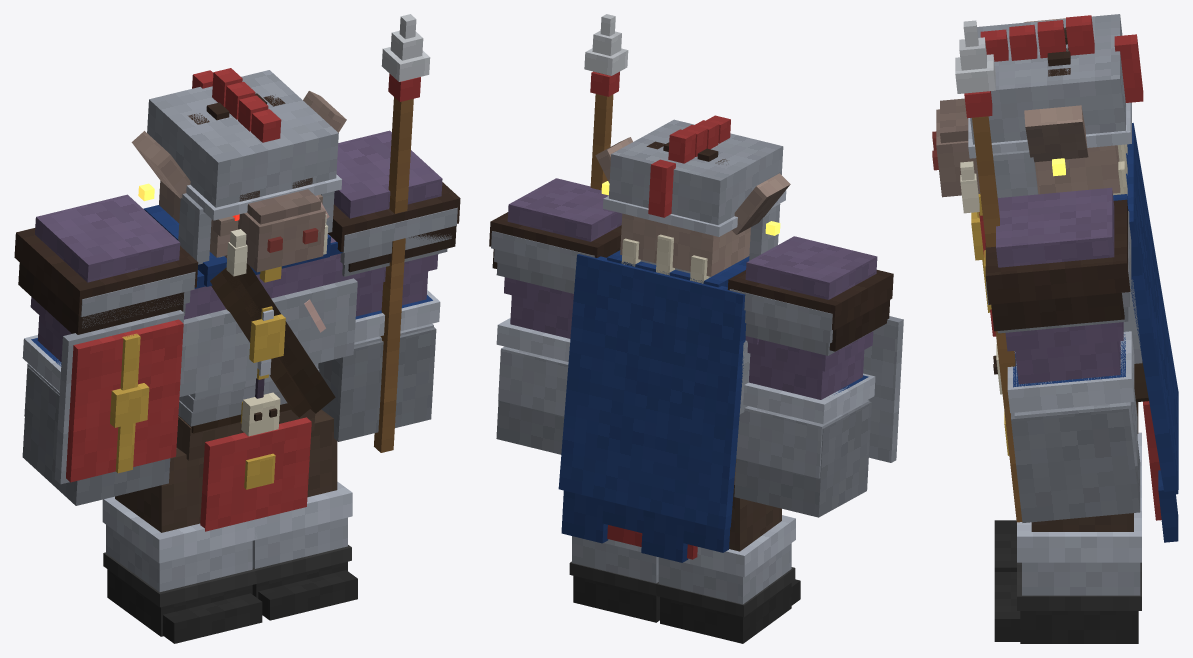
Rendered from orc_garde_v3.glb.
3 renders of one model, left to right at view 1: azimuth 30°, elevation 25°; view 2: azimuth 150°, elevation 25°; view 3: azimuth 270°, elevation 25°, orthographic. The views are drawn at different scales.
Visible parts, largest first — view 1: ArmR, Torso, Head, ArmL, LegR, LegL, HandL; view 2: Torso, ArmR, Head, ArmL, LegR, LegL, HandL; view 3: ArmL, Head, LegL, Torso, HandL, LegR, ArmR.
Boxes of the visible parts, bbox=[...] form: ArmR: bbox=[14, 194, 198, 505]; Torso: bbox=[143, 205, 365, 531]; Head: bbox=[131, 68, 346, 276]; ArmL: bbox=[318, 130, 460, 441]; LegR: bbox=[102, 448, 262, 643]; LegL: bbox=[252, 409, 357, 620]; HandL: bbox=[374, 14, 430, 452]; Torso: bbox=[558, 234, 758, 562]; ArmR: bbox=[727, 236, 903, 517]; Head: bbox=[595, 115, 790, 277]; ArmL: bbox=[489, 178, 622, 454]; LegR: bbox=[656, 467, 800, 643]; LegL: bbox=[569, 536, 659, 622]; HandL: bbox=[584, 14, 628, 190]; ArmL: bbox=[985, 187, 1140, 522]; Head: bbox=[932, 14, 1143, 213]; LegL: bbox=[994, 485, 1141, 643]; Torso: bbox=[978, 123, 1178, 542]; HandL: bbox=[955, 20, 1022, 522]; LegR: bbox=[994, 432, 1141, 571]; ArmR: bbox=[971, 212, 995, 336].
Bounding box in the file's own units: 1.48 × 2.1 × 0.7308.
Materials: 46 (46 with a texture image).
